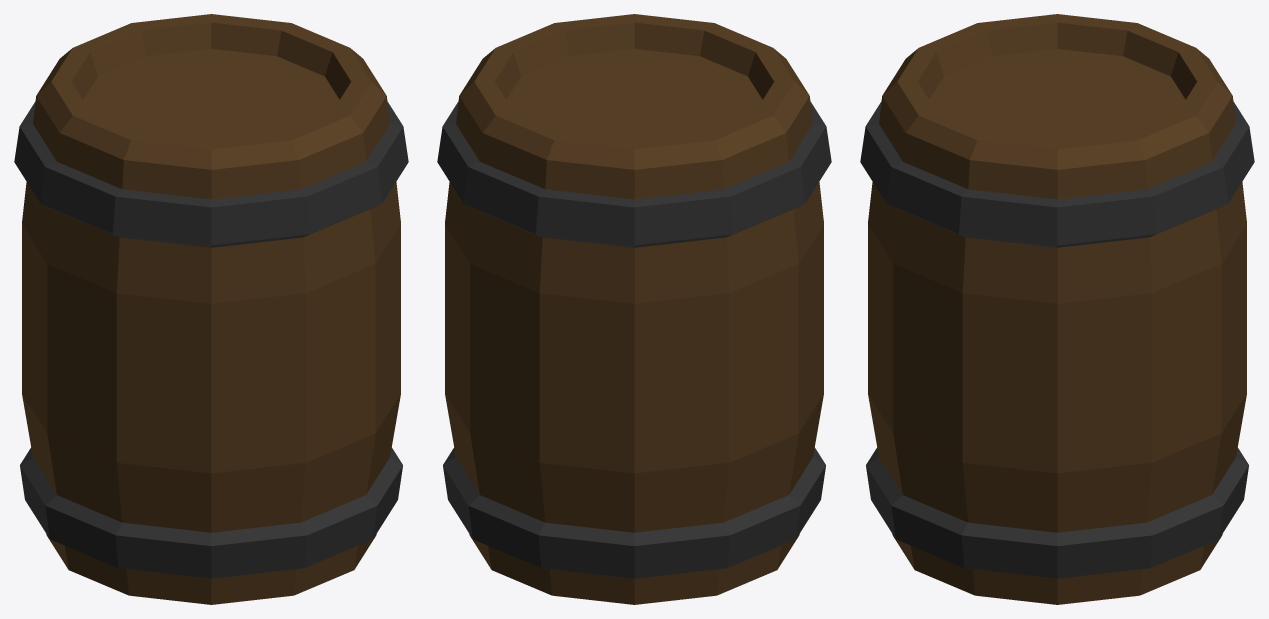
File: SM_barrel_02.fbx
3 views of the same model, side by side, from view 1: azimuth 30°, elevation 25°; view 2: azimuth 150°, elevation 25°; view 3: azimuth 270°, elevation 25° (orthographic).
Visible parts, largest first — view 1: Object2158; view 2: Object2158; view 3: Object2158.
Part boxes in pixels (left/top/right/bottom): Object2158: left=14, top=14, right=408, bottom=604; Object2158: left=437, top=14, right=831, bottom=604; Object2158: left=860, top=14, right=1254, bottom=604.
Size of the model in its own units: 33.4 by 42.37 by 33.4.
